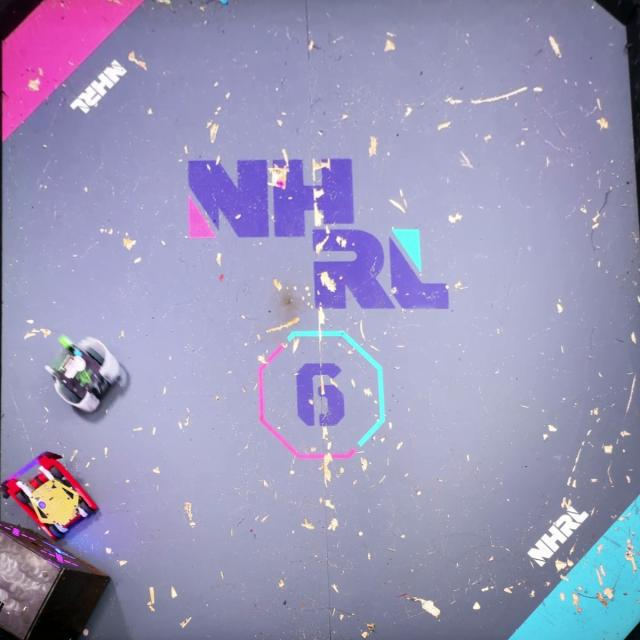housebot: (0, 521, 112, 640)
robot: (0, 450, 100, 542), (47, 332, 130, 417)
